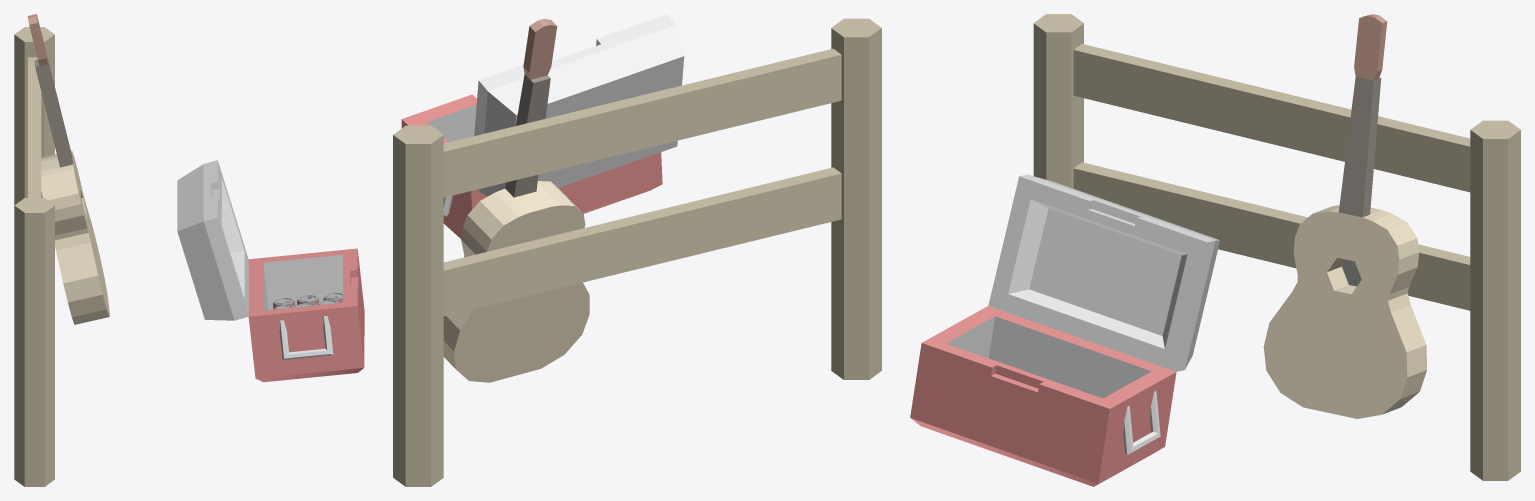
Rendered from CoolerFence.dae.
The picture shows the model from 3 angles, left to right: view 1: azimuth 30°, elevation 25°; view 2: azimuth 150°, elevation 25°; view 3: azimuth 270°, elevation 25°; orthographic projection. The views are drawn at different scales.
Parts seen in each view (by area): view 1: FenceGuitar; view 2: FenceGuitar; view 3: FenceGuitar.
Boxes of the visible parts, bbox=[...] form: FenceGuitar: bbox=[14, 14, 364, 486]; FenceGuitar: bbox=[393, 14, 881, 486]; FenceGuitar: bbox=[910, 14, 1520, 486].
Size of the model in its own units: 5.51 by 6.47 by 4.98.
